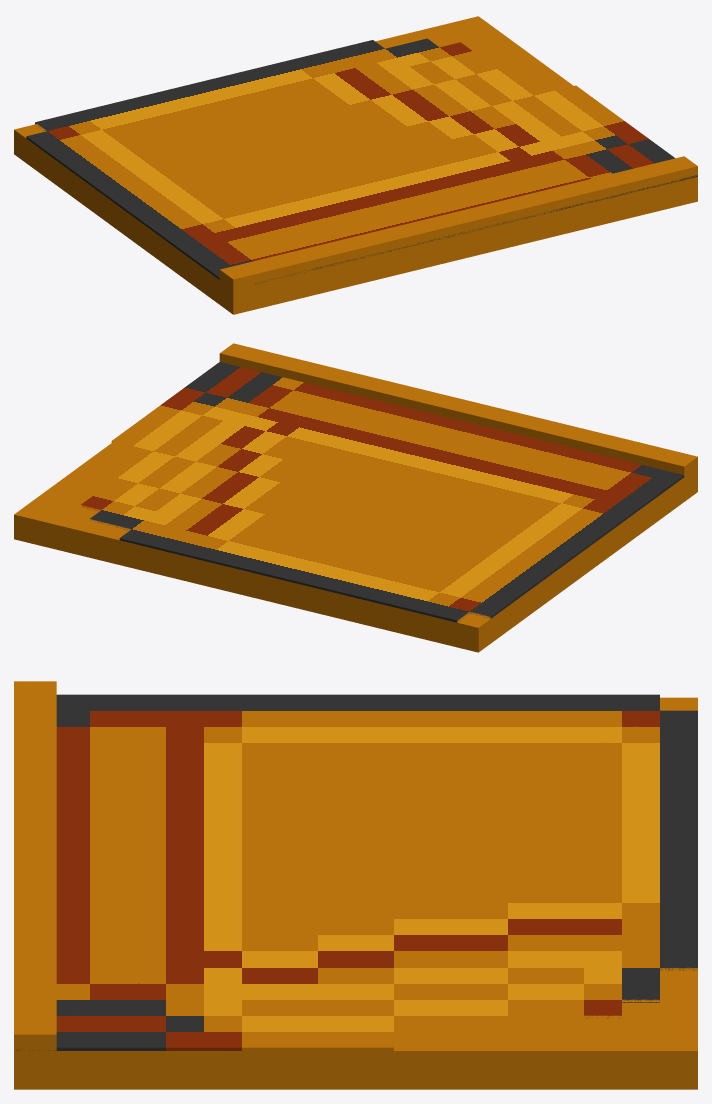
File: CMU3DReduxCMBedsheetOrangeFull.glb
3 renders of one model, top to bottom at view 1: azimuth 30°, elevation 25°; view 2: azimuth 150°, elevation 25°; view 3: azimuth 270°, elevation 25°, orthographic. The views are drawn at different scales.
Visible parts, largest first — view 1: source upper face, closed object body, folded cloth edge; view 2: source upper face, closed object body, folded cloth edge; view 3: source upper face, closed object body, folded cloth edge.
Part boxes in pixels (bbox=[...]): source upper face: bbox=[26, 38, 697, 284]; closed object body: bbox=[14, 16, 697, 314]; folded cloth edge: bbox=[219, 156, 697, 314]; source upper face: bbox=[81, 362, 684, 622]; closed object body: bbox=[14, 442, 697, 652]; folded cloth edge: bbox=[219, 343, 697, 501]; source upper face: bbox=[14, 694, 697, 1050]; closed object body: bbox=[14, 697, 697, 1089]; folded cloth edge: bbox=[14, 681, 56, 1089].
Size of the model in its own units: 0.6875 by 0.05 by 0.5625.
Materials: 2 (1 with a texture image).
